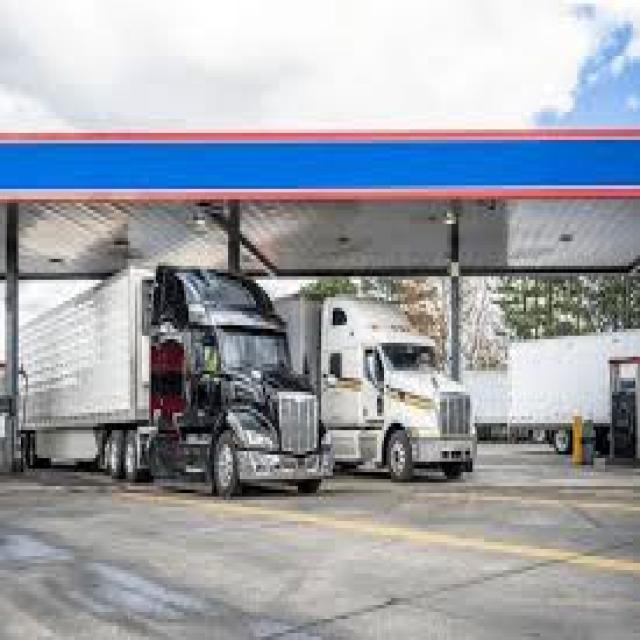covered: (14, 258, 333, 496)
